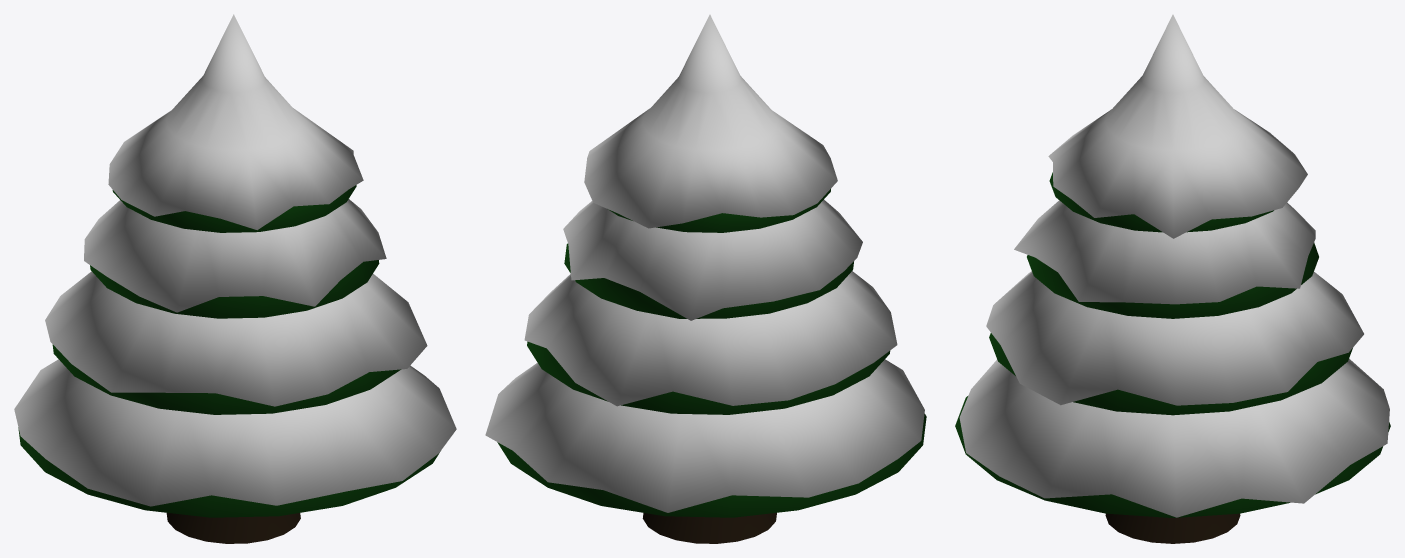
The model's file is snow_tree.dae.
The picture shows the model from 3 angles, left to right: view 1: azimuth 30°, elevation 25°; view 2: azimuth 150°, elevation 25°; view 3: azimuth 270°, elevation 25°; orthographic projection.
Parts seen in each view (by area): view 1: Small_SnowTree; view 2: Small_SnowTree; view 3: Small_SnowTree.
Boxes of the visible parts, x1,y1,x2,y2 form: Small_SnowTree: (14, 14, 456, 543); Small_SnowTree: (485, 14, 926, 543); Small_SnowTree: (955, 14, 1390, 543).
Size of the model in its own units: 1.24 by 1.56 by 1.23.
